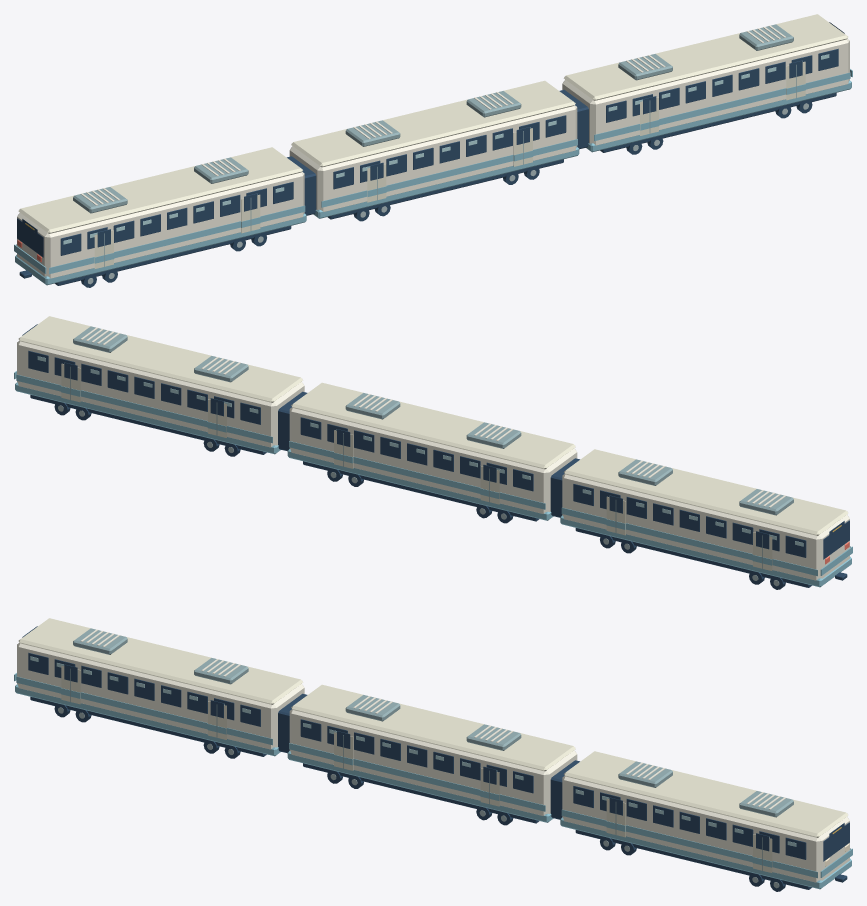
File: train.glb
The picture shows the model from 3 angles, top to bottom: view 1: azimuth 30°, elevation 25°; view 2: azimuth 150°, elevation 25°; view 3: azimuth 330°, elevation 25°; orthographic projection.
Parts seen in each view (by area): view 1: Sora_Commuter_Train_Surface; view 2: Sora_Commuter_Train_Surface; view 3: Sora_Commuter_Train_Surface.
Boxes of the visible parts, bbox=[...] form: Sora_Commuter_Train_Surface: bbox=[14, 14, 852, 287]; Sora_Commuter_Train_Surface: bbox=[14, 316, 852, 589]; Sora_Commuter_Train_Surface: bbox=[14, 618, 852, 891].
Bounding box in the file's own units: 45.02 × 3.89 × 3.22.
